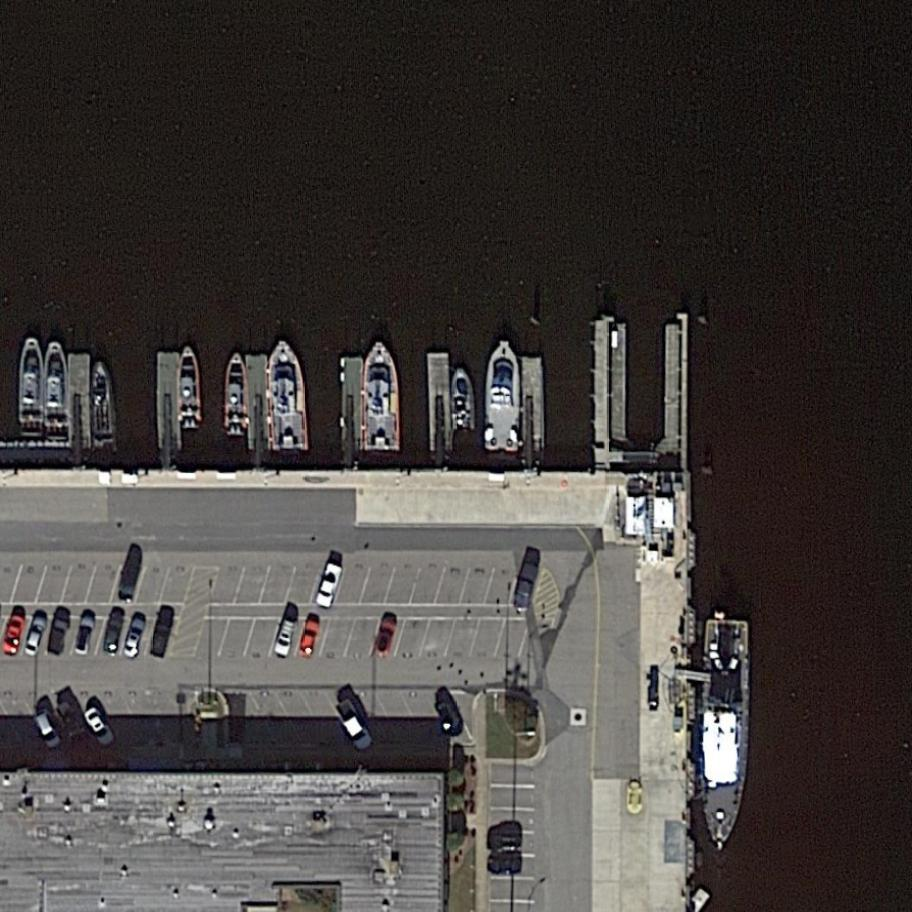ship: (696, 615, 752, 854), (264, 339, 310, 456), (483, 339, 525, 453), (361, 338, 401, 452), (20, 338, 44, 439), (90, 362, 116, 451), (177, 343, 203, 430), (44, 342, 67, 440), (225, 352, 249, 439), (450, 369, 475, 433)
small-vehicle: (332, 695, 377, 755), (111, 543, 149, 605), (429, 693, 468, 743), (80, 703, 120, 750), (29, 704, 66, 752), (511, 559, 542, 616), (148, 605, 178, 661), (52, 698, 88, 743), (69, 608, 101, 658), (99, 607, 130, 656), (118, 612, 149, 661), (314, 561, 345, 610), (294, 617, 324, 662), (45, 611, 73, 659), (0, 611, 28, 657), (21, 614, 49, 659), (373, 615, 399, 661), (484, 828, 525, 854), (273, 617, 297, 659), (486, 856, 524, 877)
